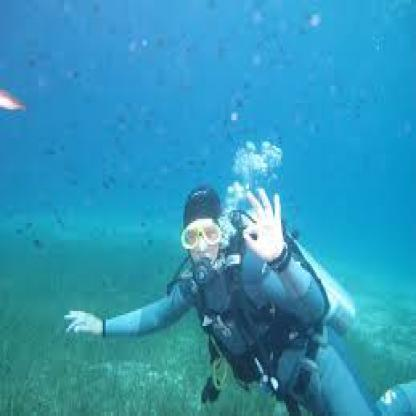ok: (241, 181, 287, 262)
